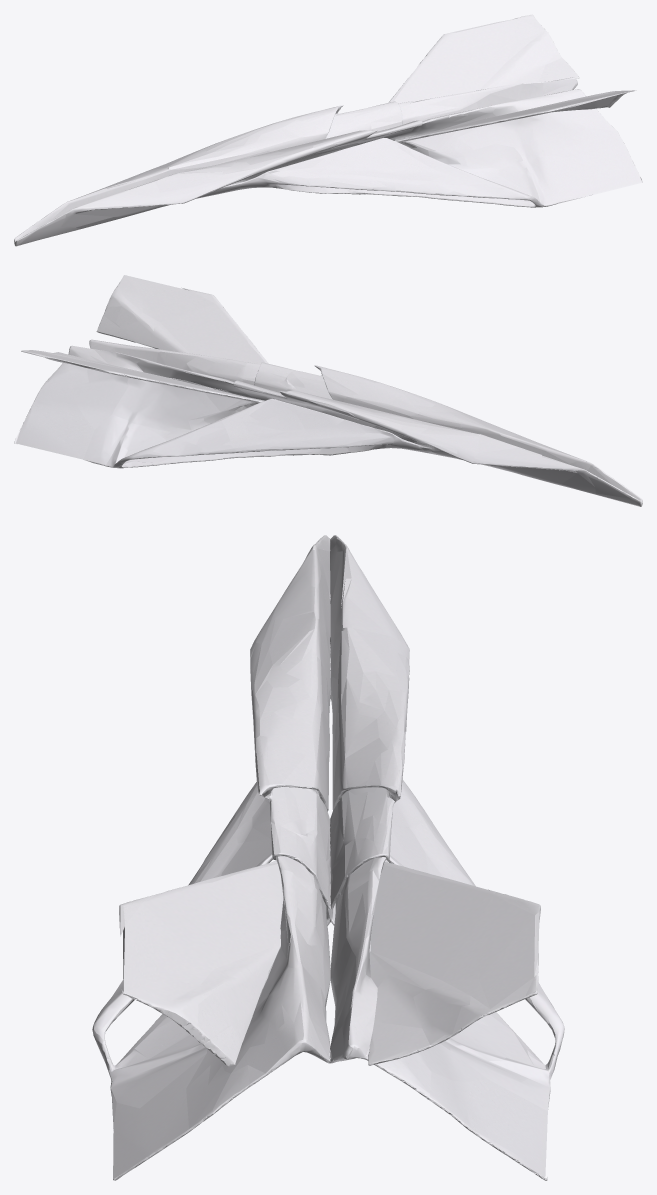
File: player.glb
3 renders of one model, top to bottom at view 1: azimuth 30°, elevation 25°; view 2: azimuth 150°, elevation 25°; view 3: azimuth 270°, elevation 25°, orthographic. The views are drawn at different scales.
Parts seen in each view (by area): view 1: Mesh_0; view 2: Mesh_0; view 3: Mesh_0.
Boxes of the visible parts, x1,y1,x2,y2 form: Mesh_0: (14,14,642,246); Mesh_0: (14,275,642,506); Mesh_0: (92,535,564,1180).
Size of the model in its own units: 1.9 by 0.2956 by 0.6775.
Materials: 1 (1 with a texture image).
